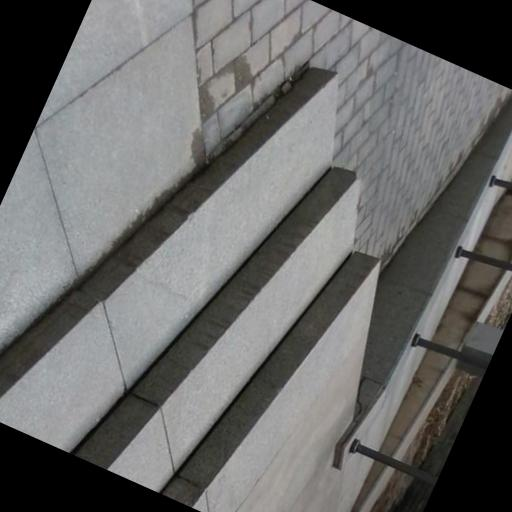stairs: (0, 68, 377, 511)
